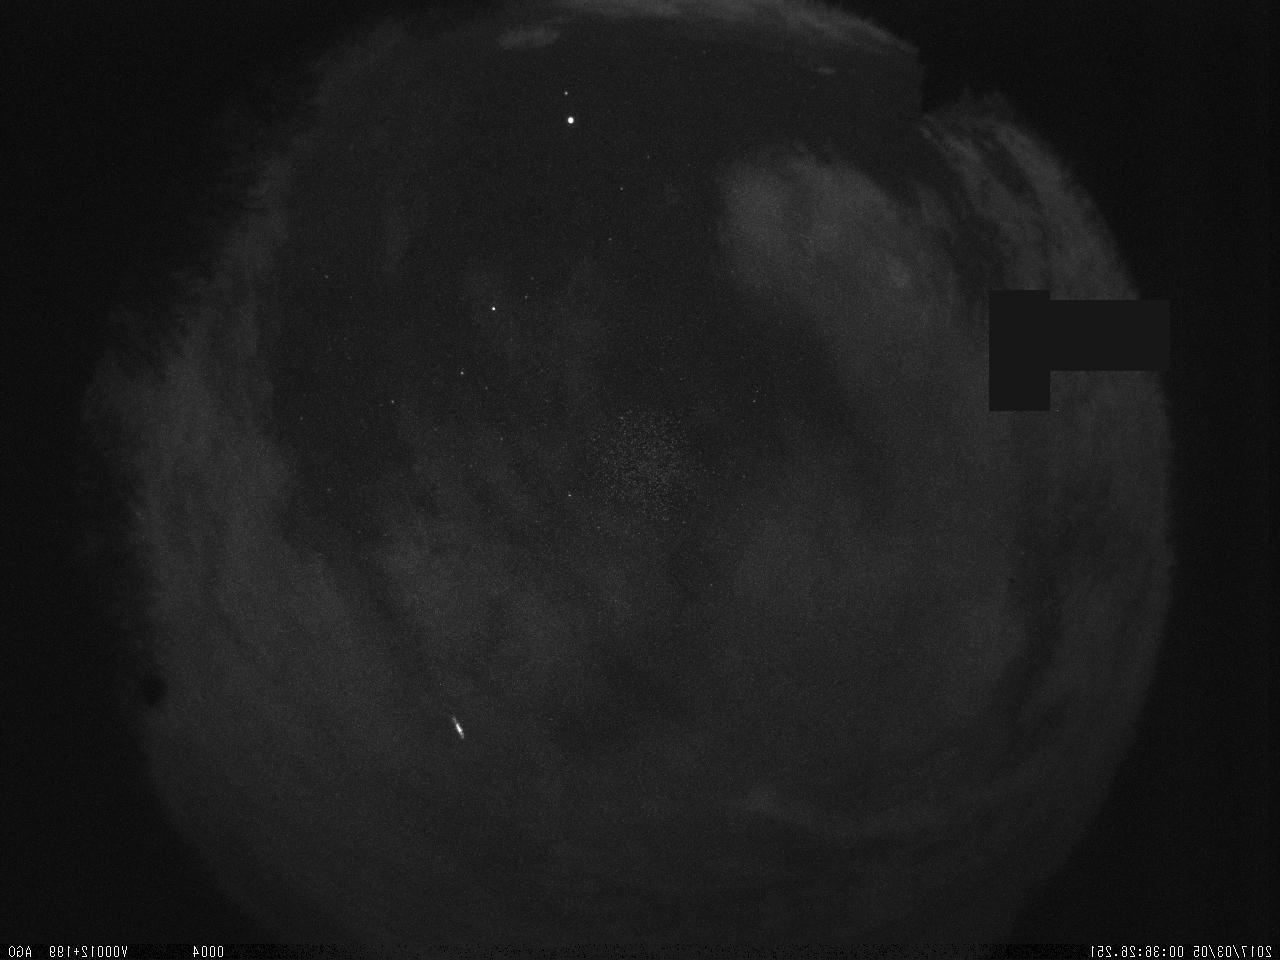meteor: (440, 711, 469, 746)
